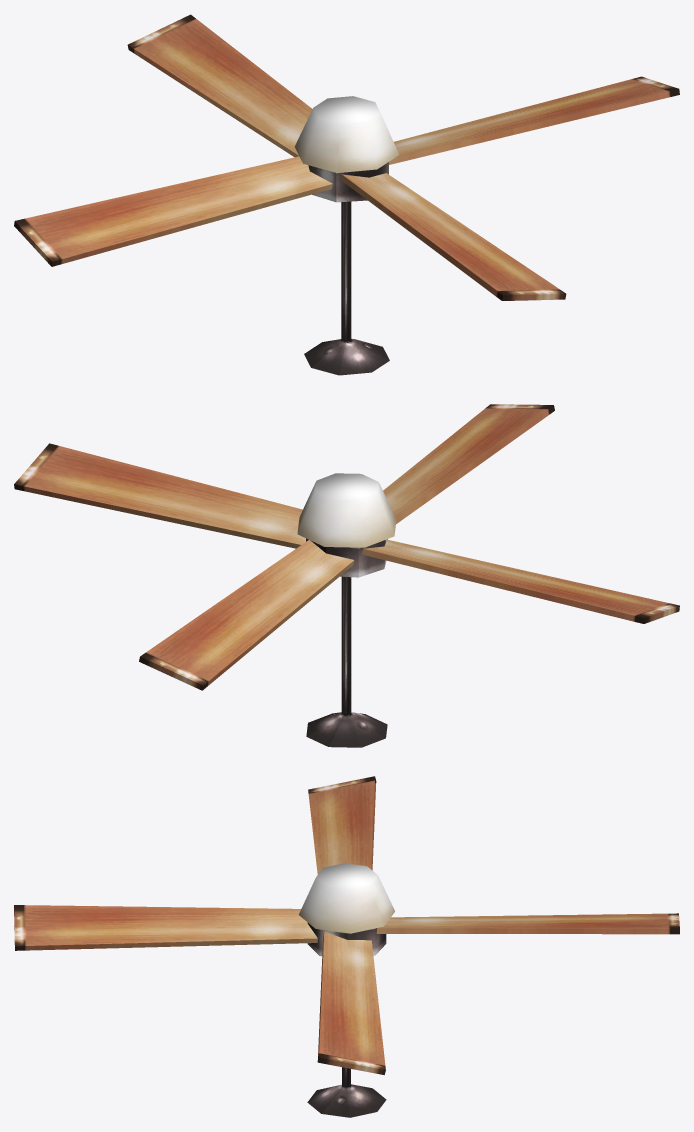
The model's file is fan2.fbx.
3 renders of one model, top to bottom at view 1: azimuth 30°, elevation 25°; view 2: azimuth 150°, elevation 25°; view 3: azimuth 270°, elevation 25°, orthographic. The views are drawn at different scales.
Parts seen in each view (by area): view 1: mesh_0, mesh_1; view 2: mesh_0, mesh_1; view 3: mesh_0, mesh_1.
Part boxes in pixels (box(x1,y1,x2,y2)): mesh_0: box(14, 14, 679, 300); mesh_1: box(294, 96, 399, 375); mesh_0: box(14, 404, 679, 690); mesh_1: box(297, 473, 396, 747); mesh_0: box(14, 776, 679, 1074); mesh_1: box(299, 863, 394, 1117).
Size of the model in its own units: 169 by 62.96 by 169.
Materials: 1 (1 with a texture image).
